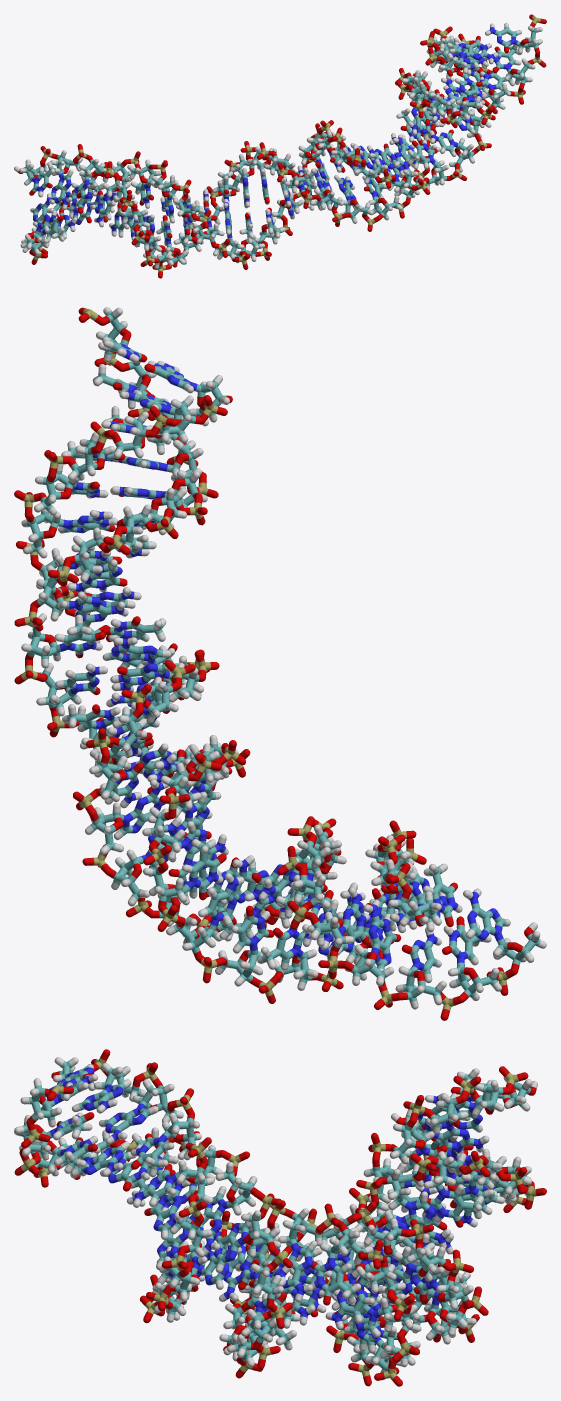
3 renders of one model, top to bottom at view 1: azimuth 30°, elevation 25°; view 2: azimuth 150°, elevation 25°; view 3: azimuth 270°, elevation 25°, orthographic. The views are drawn at different scales.
Bounding box in the file's own units: 12.24 × 8.16 × 9.1.
